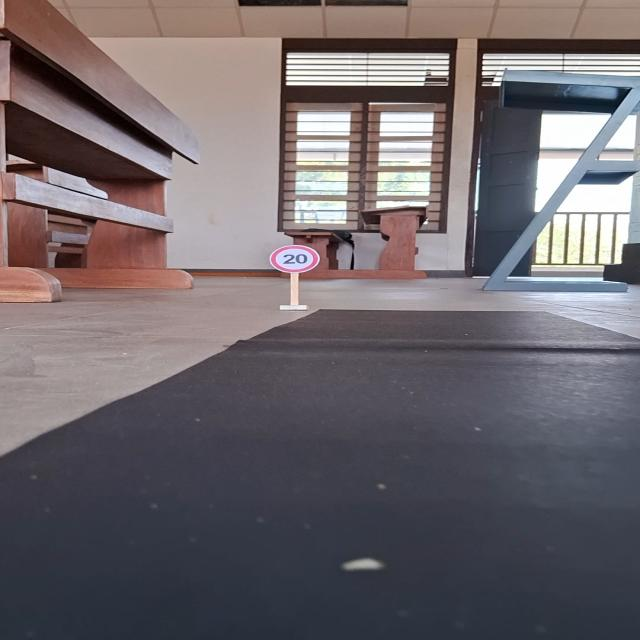Speed20: (267, 244, 322, 274)
